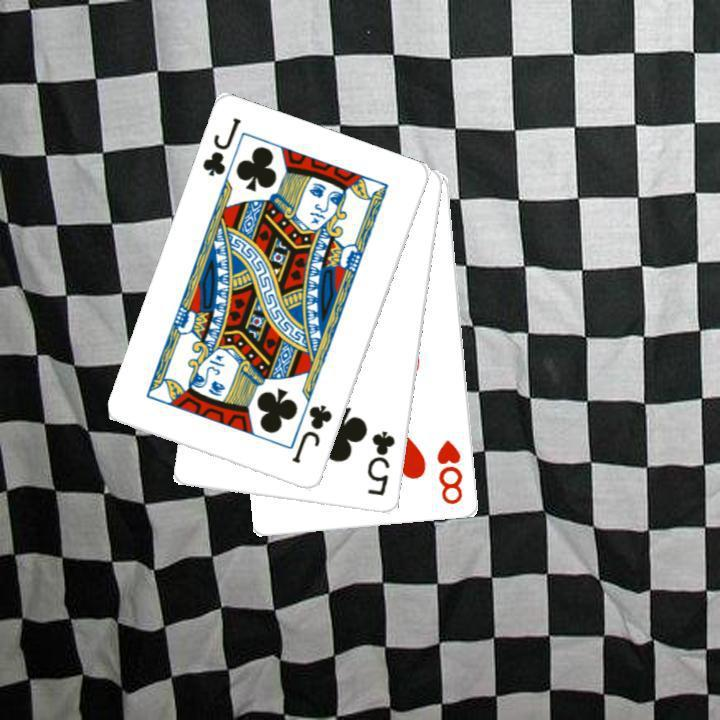5: (363, 427, 397, 499)
8: (433, 435, 466, 507)
J: (288, 401, 335, 466), (198, 114, 244, 179)
